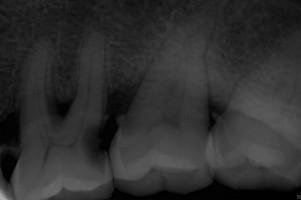Endo-Periodontal Lesion: (53, 97, 76, 120)
